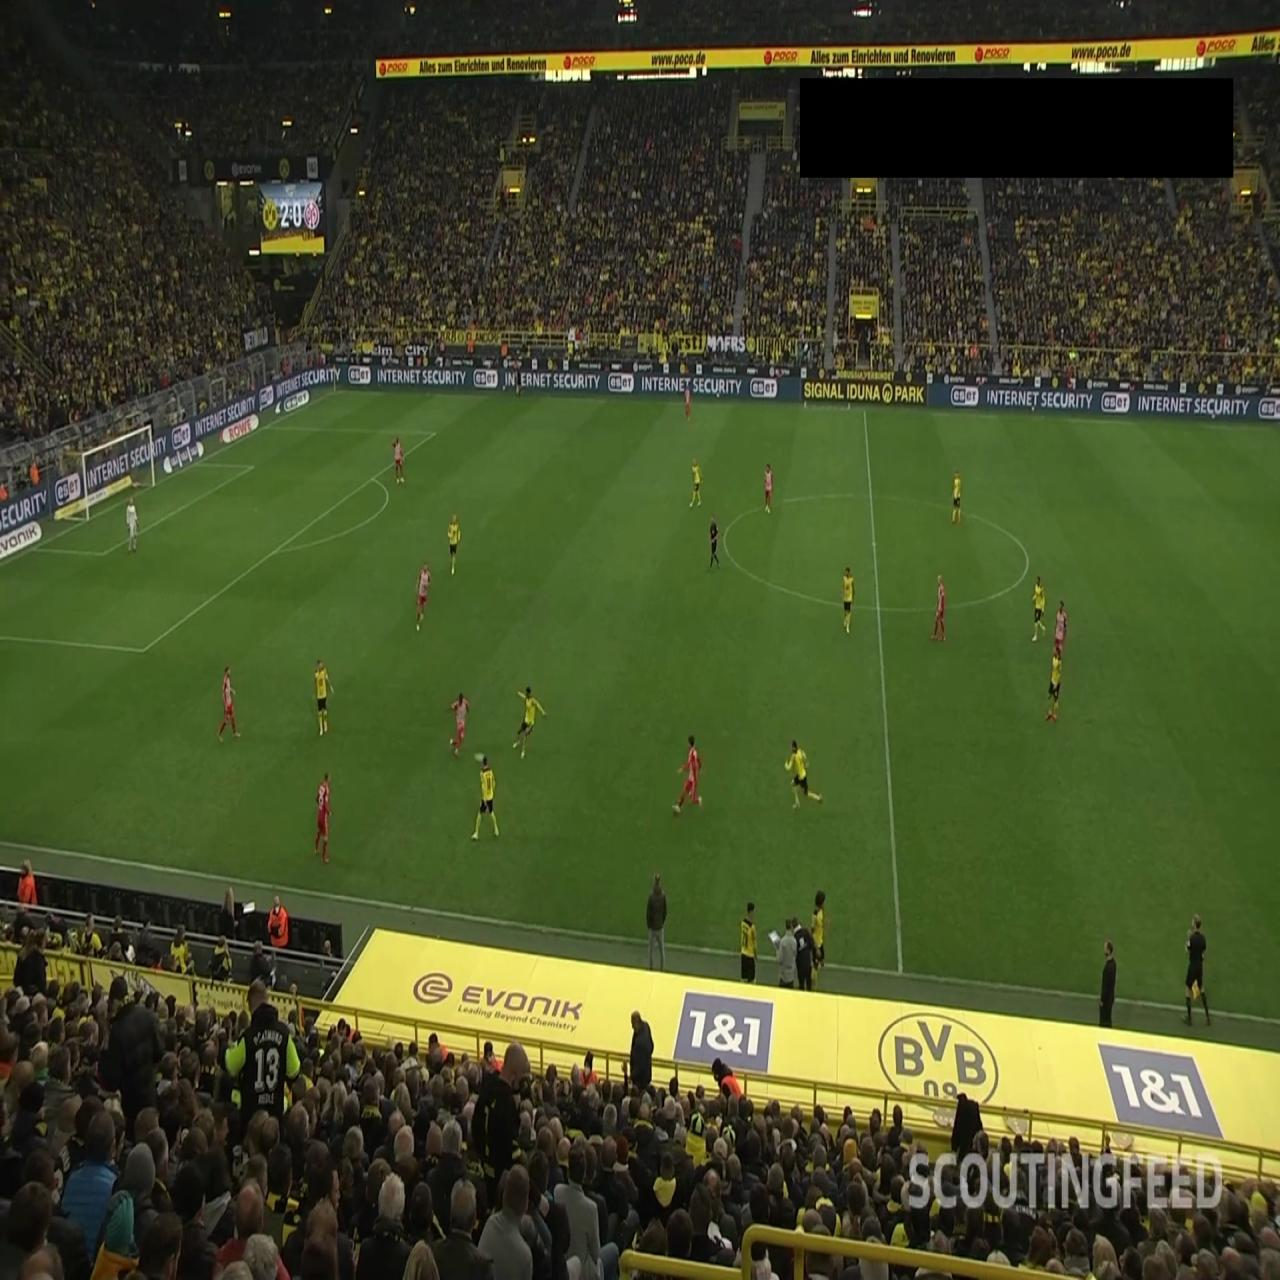ball: (474, 749, 486, 764)
goalkeeper: (126, 497, 139, 552)
player: (784, 739, 822, 812), (470, 752, 500, 842), (513, 685, 547, 761), (672, 734, 703, 816), (217, 665, 241, 742), (1044, 640, 1064, 726), (314, 658, 335, 736), (314, 772, 331, 864), (1049, 596, 1068, 672), (449, 691, 469, 757), (416, 560, 432, 632), (1030, 575, 1046, 640), (931, 574, 946, 642), (842, 565, 855, 634), (447, 512, 461, 576), (688, 458, 702, 508), (392, 435, 406, 484), (951, 472, 962, 525), (764, 462, 773, 513), (683, 382, 692, 425)
referee: (1183, 912, 1211, 1028), (708, 514, 721, 570), (514, 362, 522, 399)
